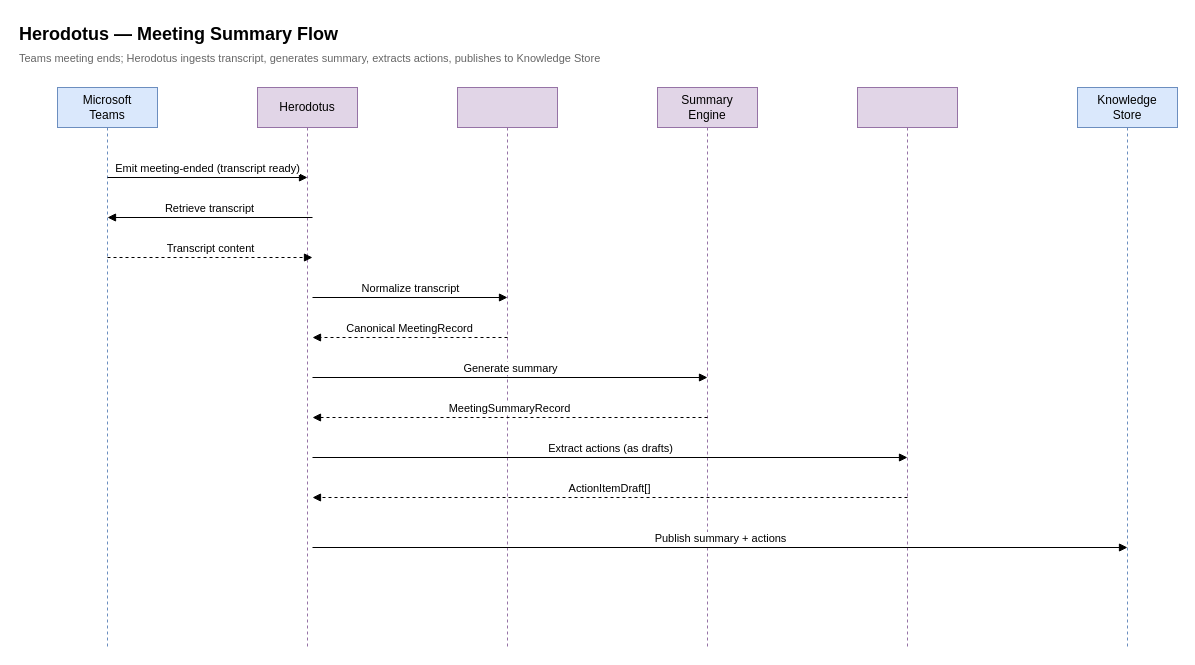
The diagram is 1195 pixels wide and 665 high, and some of its shapes have lost their labels. The shapes that lost their labels are listed below. From the top down, each one's box as (x1, y1, x2, y2) in pixels, then its label:
(456, 86, 558, 648): Meeting Normalizer
(856, 86, 958, 648): Action Extractor
